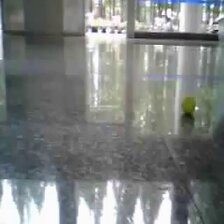tennis: (181, 95, 196, 112)
